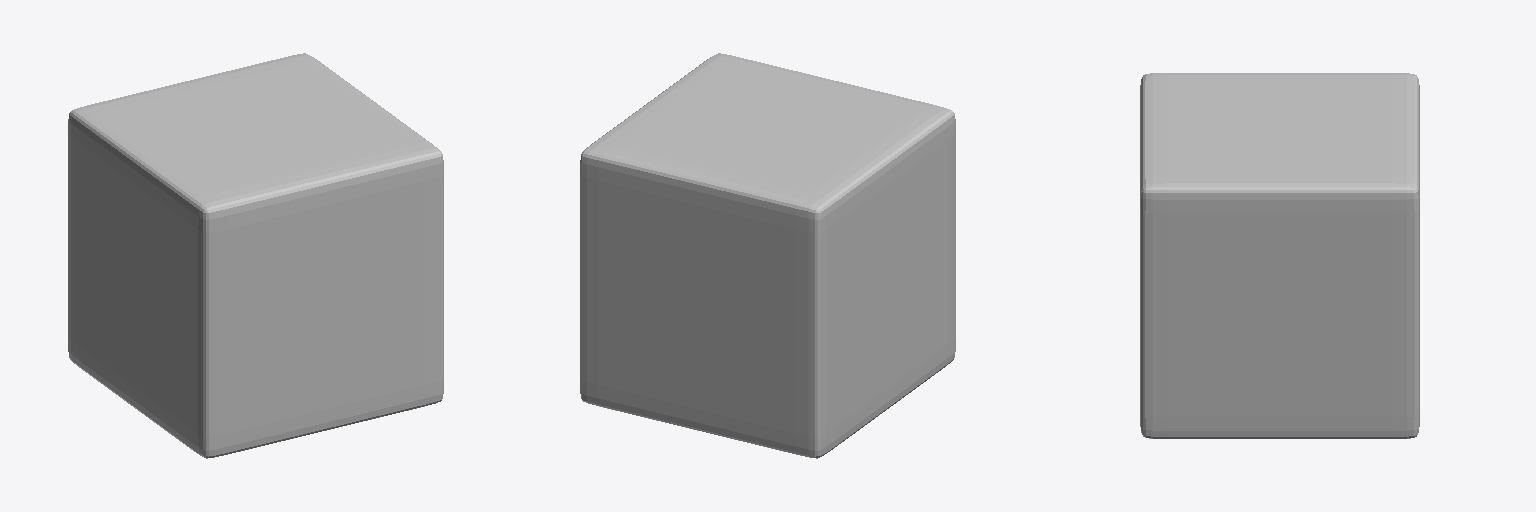
File: rounded-cube.obj
3 renders of one model, left to right at view 1: azimuth 30°, elevation 25°; view 2: azimuth 150°, elevation 25°; view 3: azimuth 270°, elevation 25°, orthographic.
Parts seen in each view (by area): view 1: Box; view 2: Box; view 3: Box.
Boxes of the visible parts, <box> form: Box: <box>68,53,443,458</box>; Box: <box>580,53,955,458</box>; Box: <box>1140,73,1419,438</box>.
Size of the model in its own units: 1 by 1 by 1.